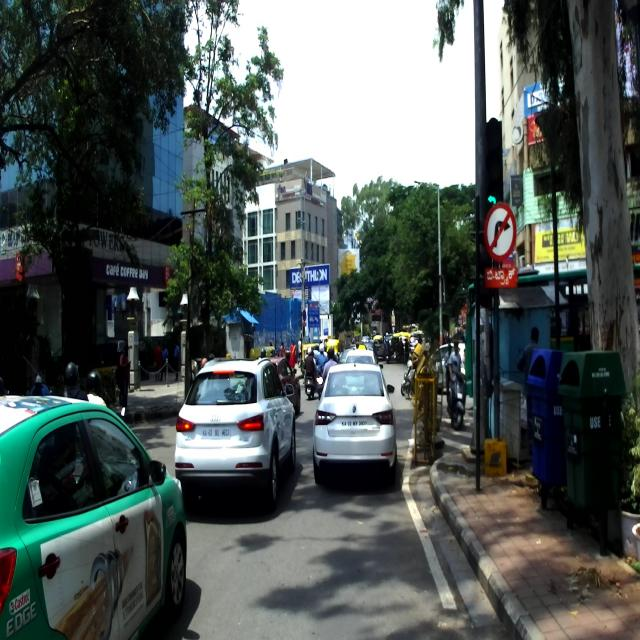car: (0, 392, 187, 640), (171, 356, 295, 516), (312, 362, 397, 486)
scooter: (449, 364, 468, 432)
